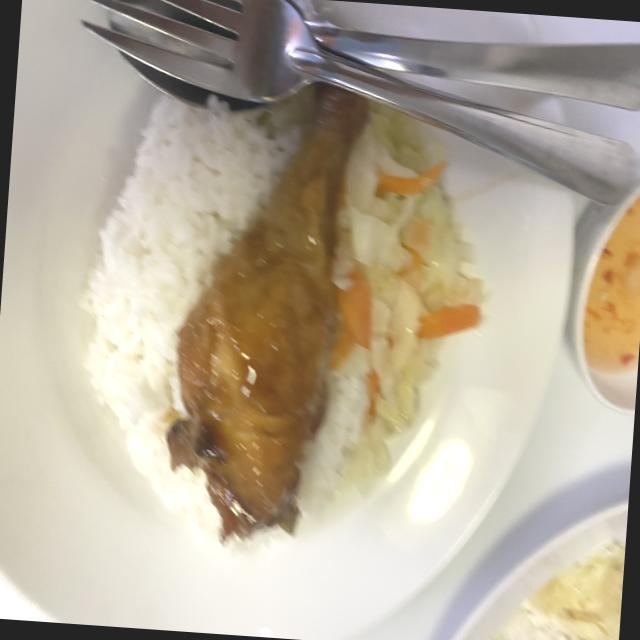bap cai xao: (331, 108, 484, 490)
com: (82, 98, 296, 535)
ga chien: (167, 83, 367, 541)
nuoc mam: (584, 196, 640, 370)
